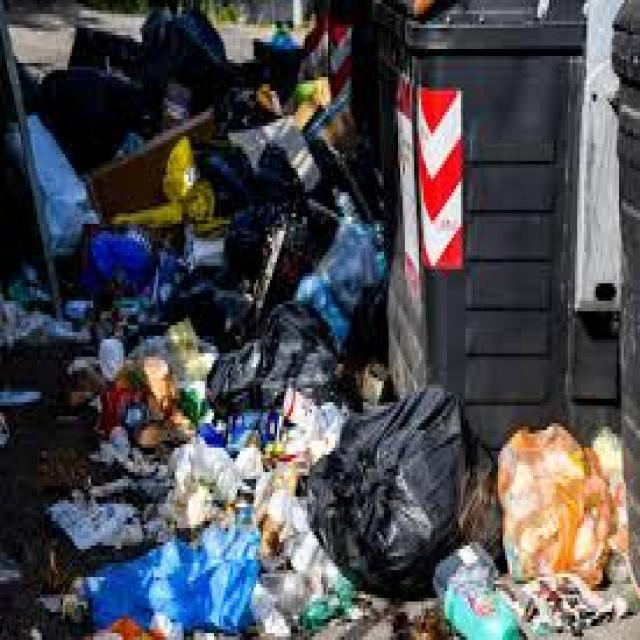Trashbag: (318, 398, 501, 588), (212, 309, 347, 424), (221, 198, 300, 318)
